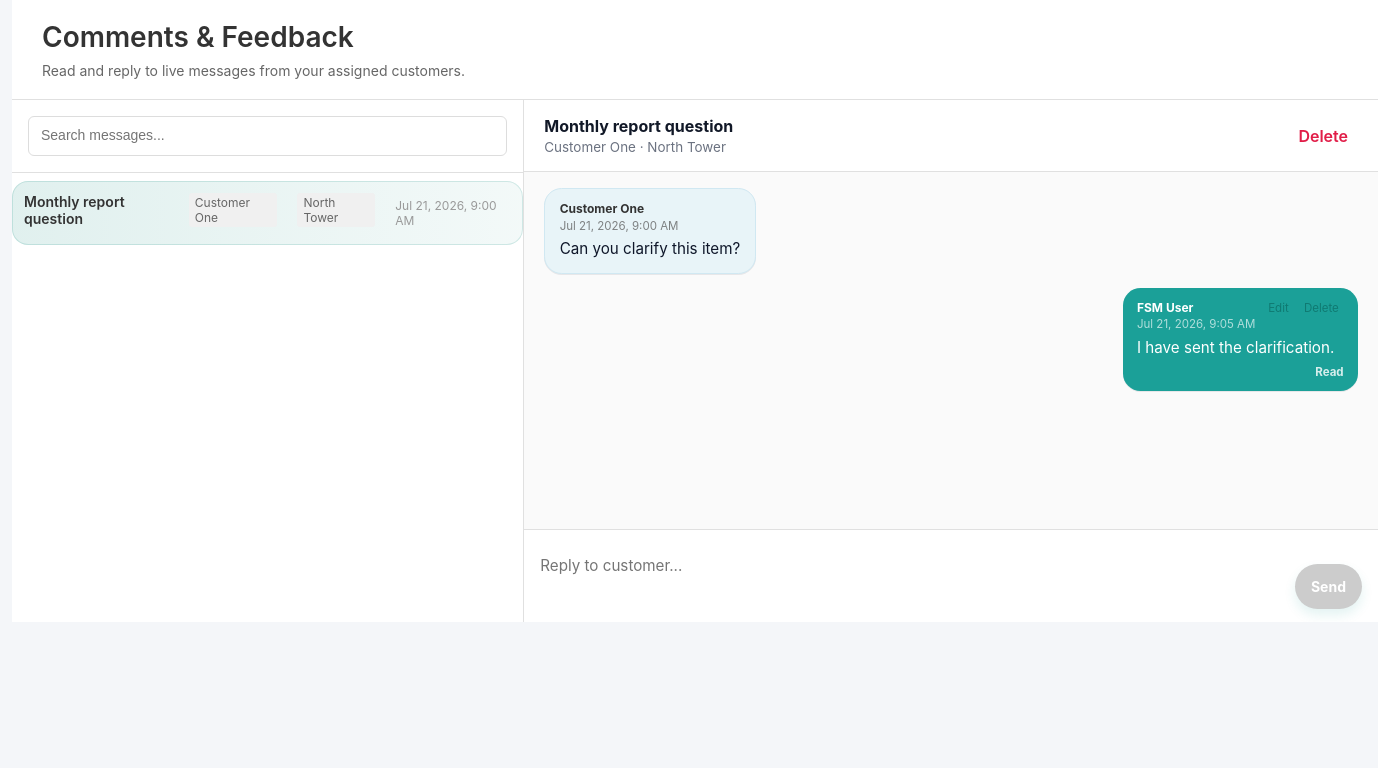
Test: lets an FSM delete a complete customer conversation
Click the button with aria-label "Delete conversation Monthly report question": (1323, 136) [1288, 120, 1358, 152]
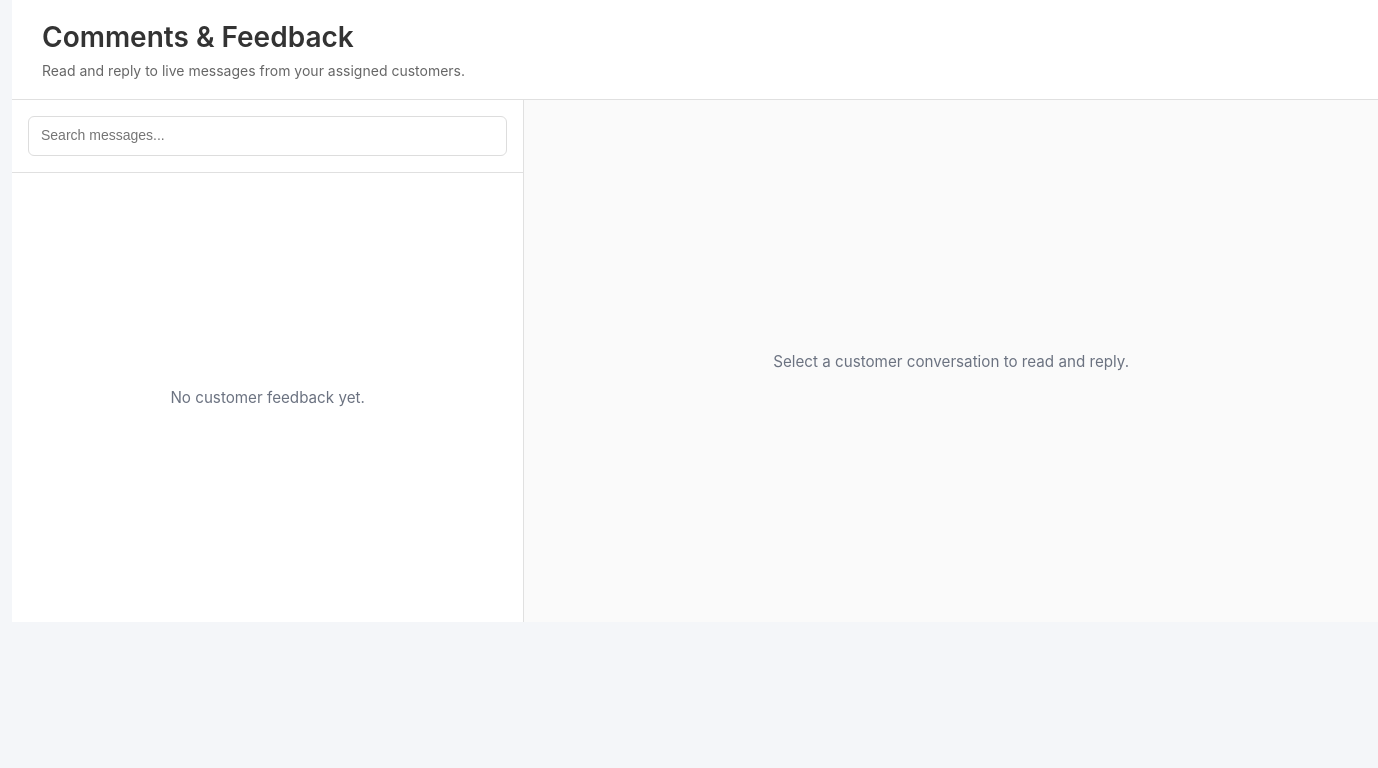
Expected: the text "Can you clarify this item?" is gone
